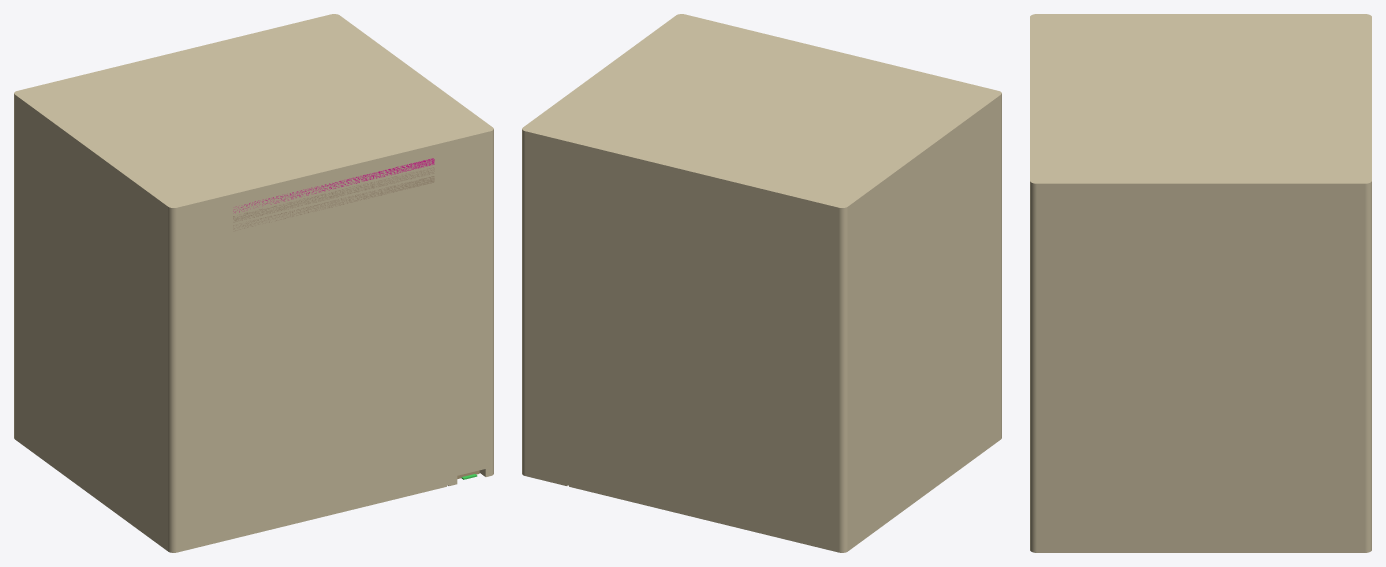
Rendered from Monitor2.obj.
The picture shows the model from 3 angles, left to right: view 1: azimuth 30°, elevation 25°; view 2: azimuth 150°, elevation 25°; view 3: azimuth 270°, elevation 25°; orthographic projection. The views are drawn at different scales.
Size of the model in its own units: 343 by 348 by 292.
